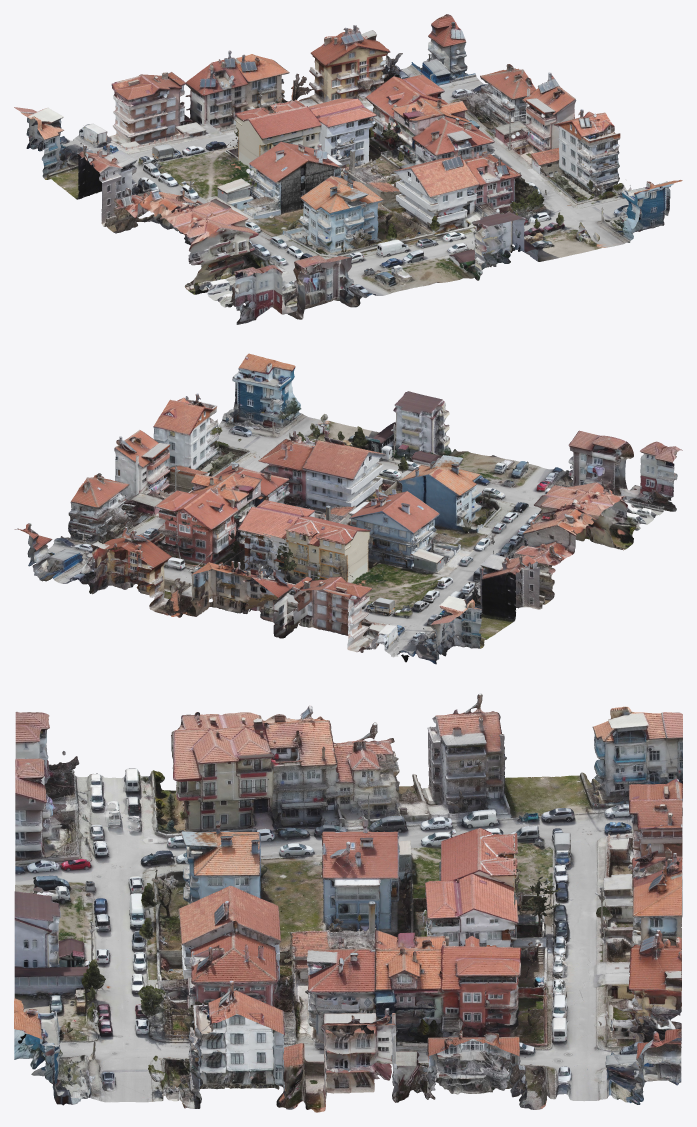
The model's file is isparta_city_block_turkey_optimized.glb.
The picture shows the model from 3 angles, top to bottom: view 1: azimuth 30°, elevation 25°; view 2: azimuth 150°, elevation 25°; view 3: azimuth 270°, elevation 25°; orthographic projection. The views are drawn at different scales.
Parts seen in each view (by area): view 1: Object_10, Object_13, Object_3, Object_12, Object_2, Object_4, Object_7, Object_15, Object_9, Object_16, Object_5, Object_14 (+4 smaller); view 2: Object_14, Object_13, Object_10, Object_6, Object_16, Object_3, Object_2, Object_17, Object_4, Object_8, Object_9, Object_5 (+4 smaller); view 3: Object_13, Object_12, Object_2, Object_17, Object_14, Object_5, Object_15, Object_16, Object_11, Object_4, Object_9, Object_7 (+4 smaller).
Part boxes in pixels (bbox=[...]): Object_10: bbox=[30, 37, 620, 307]; Object_13: bbox=[27, 28, 640, 314]; Object_3: bbox=[35, 42, 640, 300]; Object_12: bbox=[26, 32, 651, 319]; Object_2: bbox=[14, 30, 663, 320]; Object_4: bbox=[26, 28, 668, 307]; Object_7: bbox=[37, 25, 656, 324]; Object_15: bbox=[31, 30, 641, 308]; Object_9: bbox=[30, 40, 670, 299]; Object_16: bbox=[42, 21, 660, 307]; Object_5: bbox=[27, 14, 668, 315]; Object_14: bbox=[56, 24, 682, 307]; Object_14: bbox=[23, 353, 638, 649]; Object_13: bbox=[42, 391, 673, 657]; Object_10: bbox=[32, 396, 664, 656]; Object_6: bbox=[37, 396, 654, 652]; Object_16: bbox=[26, 371, 668, 651]; Object_3: bbox=[29, 374, 665, 644]; Object_2: bbox=[42, 358, 665, 656]; Object_17: bbox=[33, 403, 661, 646]; Object_4: bbox=[32, 377, 656, 662]; Object_8: bbox=[50, 383, 636, 652]; Object_9: bbox=[48, 382, 635, 659]; Object_5: bbox=[14, 363, 657, 656]; Object_13: bbox=[14, 706, 682, 1104]; Object_12: bbox=[15, 711, 682, 1104]; Object_2: bbox=[14, 693, 682, 1101]; Object_17: bbox=[31, 722, 682, 1109]; Object_14: bbox=[14, 717, 682, 1102]; Object_5: bbox=[15, 712, 682, 1105]; Object_15: bbox=[14, 708, 682, 1101]; Object_16: bbox=[41, 722, 682, 1104]; Object_11: bbox=[15, 712, 681, 1109]; Object_4: bbox=[15, 714, 682, 1102]; Object_9: bbox=[20, 728, 682, 1103]; Object_7: bbox=[14, 730, 682, 1103].
Size of the model in its own units: 122 by 21.5 by 113.
Materials: 16 (16 with a texture image).
